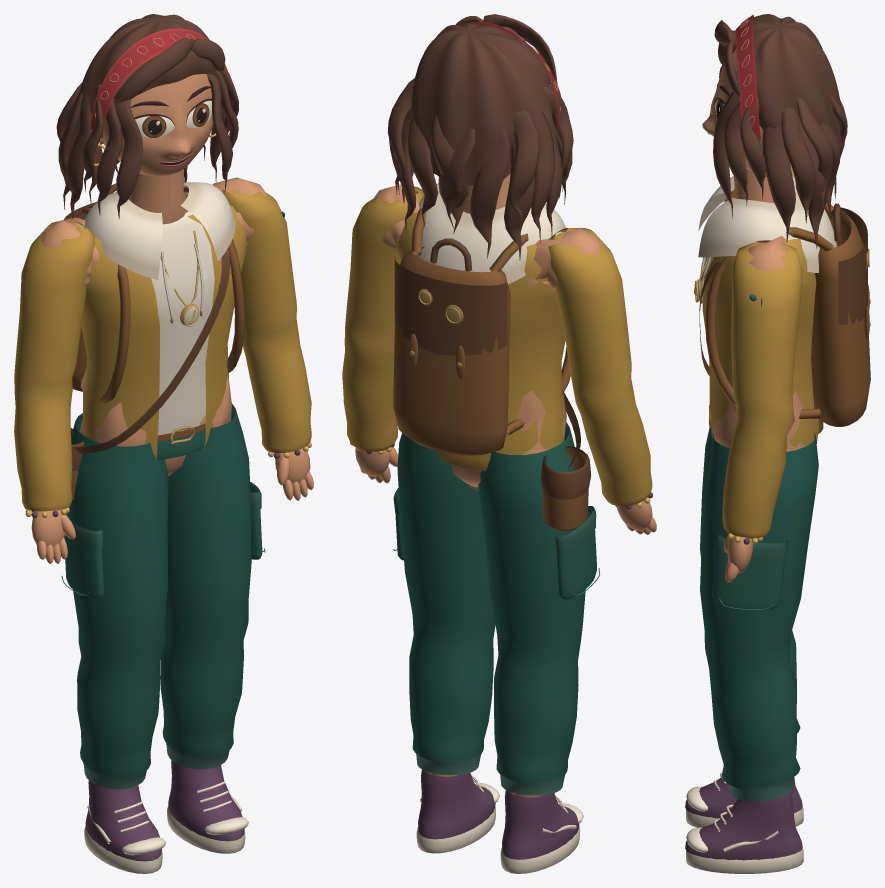
The model's file is axon-roma-mobile.glb.
3 renders of one model, left to right at view 1: azimuth 30°, elevation 25°; view 2: azimuth 150°, elevation 25°; view 3: azimuth 270°, elevation 25°, orthographic.
Visible parts, largest first — view 1: clothes / Painted surface (×2), skin / Painted surface (×2), skin / skin; view 2: clothes / Painted surface, skin / Painted surface (×2), skin / skin; view 3: clothes / Painted surface, skin / Painted surface (×2), skin / skin.
Part boxes in pixels (x1,y1,x2,y2): clothes / Painted surface (×2): [14, 28, 311, 873]; skin / Painted surface (×2): [31, 14, 313, 563]; skin / skin: [34, 177, 266, 511]; clothes / Painted surface: [342, 22, 652, 873]; skin / Painted surface (×2): [355, 14, 656, 534]; skin / skin: [372, 184, 601, 797]; clothes / Painted surface: [685, 14, 870, 873]; skin / Painted surface (×2): [702, 14, 847, 583]; skin / skin: [712, 174, 817, 538].
Bounding box in the file's own units: 0.6341 × 1.68 × 0.3446.
